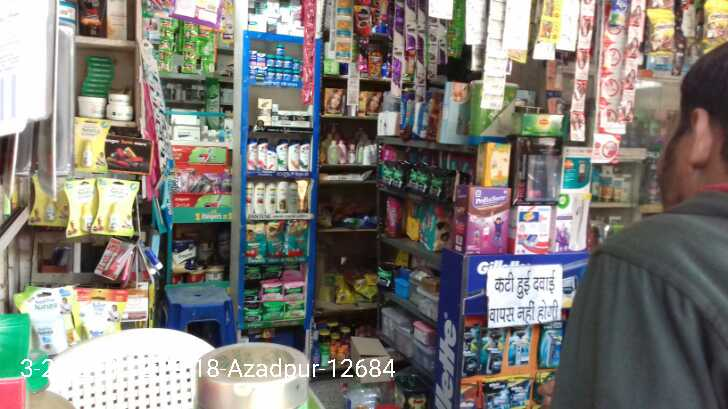vicks: (247, 39, 302, 86)
